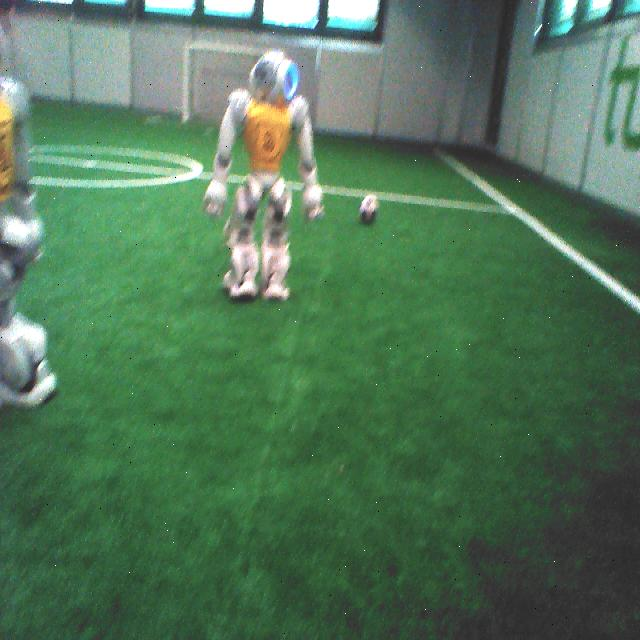ball: (355, 191, 383, 228)
goalpost: (180, 41, 192, 120)
